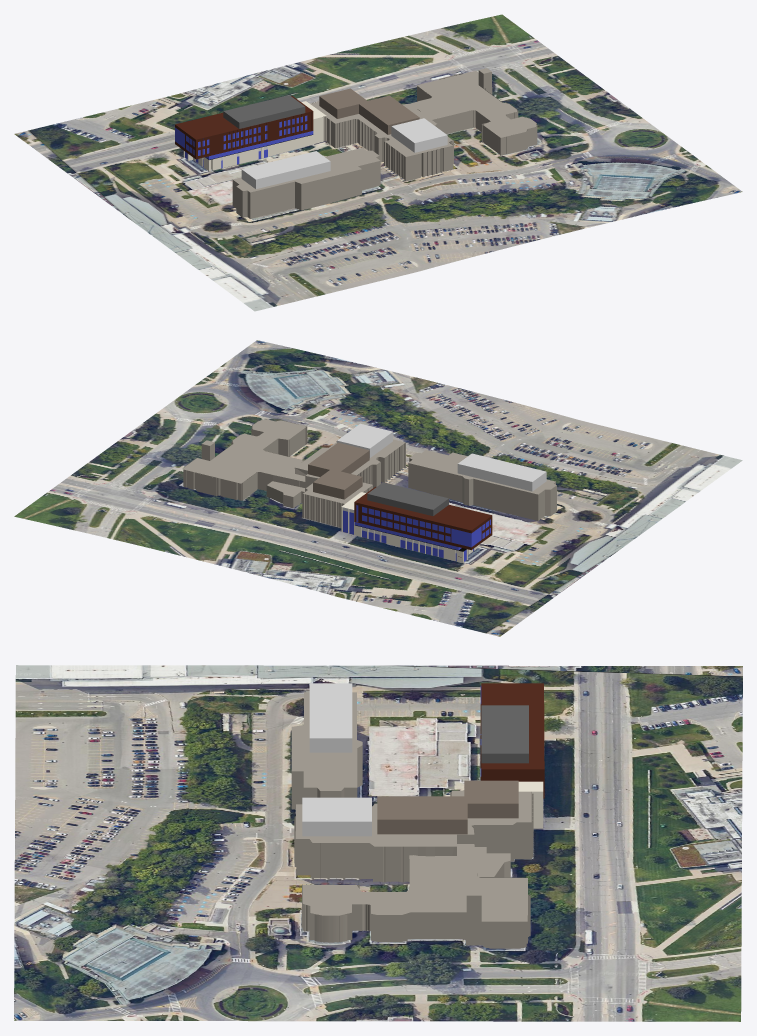
Rendered from eng-campus.glb.
The picture shows the model from 3 angles, top to bottom: view 1: azimuth 30°, elevation 25°; view 2: azimuth 150°, elevation 25°; view 3: azimuth 270°, elevation 25°; orthographic projection. The views are drawn at different scales.
Visible parts, largest first — view 1: Ground, SEB_L02.001, TEB_L03_second, SEB_L04, Cube.004, Cube, SEB_L02, Cube.002, Cube.003, Cube.001, Black Cap; view 2: Ground, SEB_L02.001, TEB_L03_second, SEB_L04, Cube.004, Cube, Cube.002, SEB_L02, Cube.001, Cube.003; view 3: Ground, SEB_L02.001, TEB_L03_second, SEB_L04, Cube.002, Cube.004, Cube, Cube.003, Cube.001.
Part boxes in pixels (box(x1,y1,x2,y2)): Ground: box(14, 14, 742, 311); SEB_L02.001: box(301, 68, 537, 181); TEB_L03_second: box(232, 147, 380, 218); SEB_L04: box(175, 96, 313, 159); Cube.004: box(241, 151, 330, 188); Cube: box(223, 95, 305, 128); SEB_L02: box(183, 134, 314, 171); Cube.002: box(358, 95, 419, 134); Cube.003: box(391, 118, 447, 152); Cube.001: box(319, 88, 367, 118); Black Cap: box(205, 131, 313, 159); Ground: box(14, 340, 742, 636); SEB_L02.001: box(182, 419, 405, 534); TEB_L03_second: box(408, 450, 556, 520); SEB_L04: box(354, 486, 492, 550); Cube.004: box(457, 453, 546, 491); Cube: box(367, 482, 448, 515); Cube.002: box(308, 442, 369, 476); SEB_L02: box(354, 525, 479, 562); Cube.001: box(313, 469, 362, 499); Cube.003: box(337, 423, 392, 457); Ground: box(14, 665, 742, 1021); SEB_L02.001: box(294, 781, 543, 948); TEB_L03_second: box(291, 692, 362, 809); SEB_L04: box(480, 683, 544, 798); Cube.002: box(377, 796, 467, 834); Cube.004: box(309, 683, 352, 752); Cube: box(481, 705, 528, 763); Cube.003: box(302, 797, 371, 836); Cube.001: box(464, 780, 518, 818).
Bounding box in the file's own units: 181 × 17.73 × 155.
Materials: 9 (1 with a texture image).
